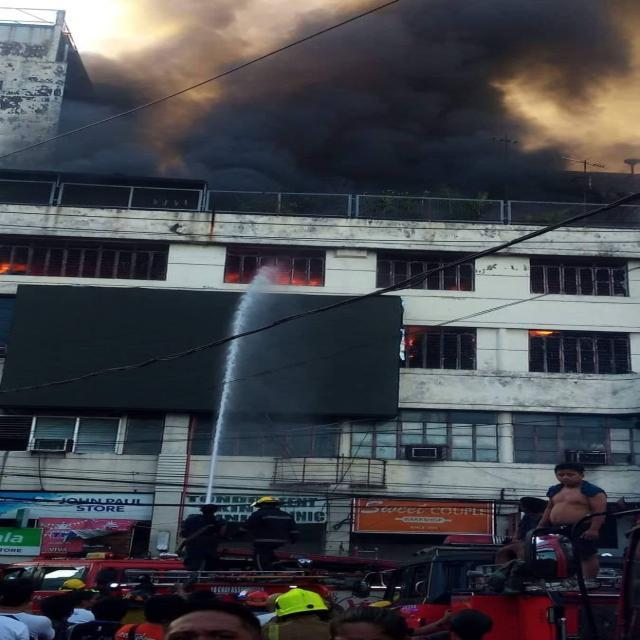Fire: (230, 262, 319, 286), (0, 256, 35, 275), (525, 328, 558, 338)
Smoke: (168, 0, 627, 215), (50, 58, 166, 175)
